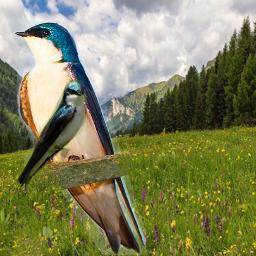Swallow: (14, 21, 146, 255), (14, 79, 88, 191)
